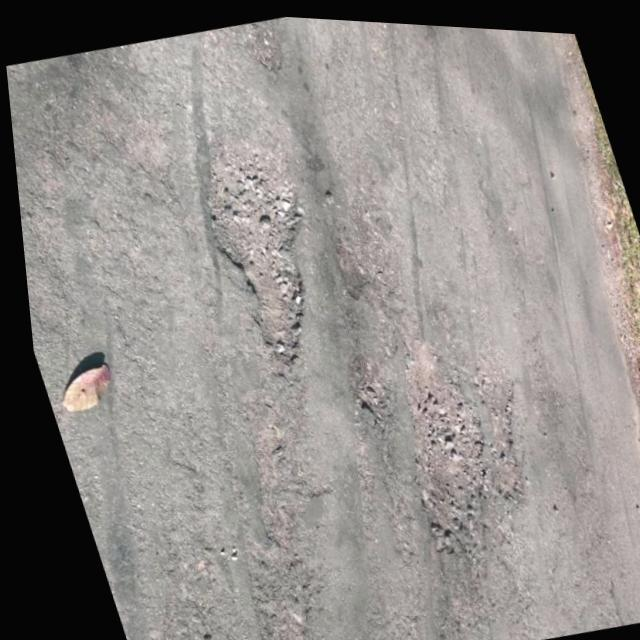pothole: (164, 113, 358, 384), (354, 326, 560, 563)
